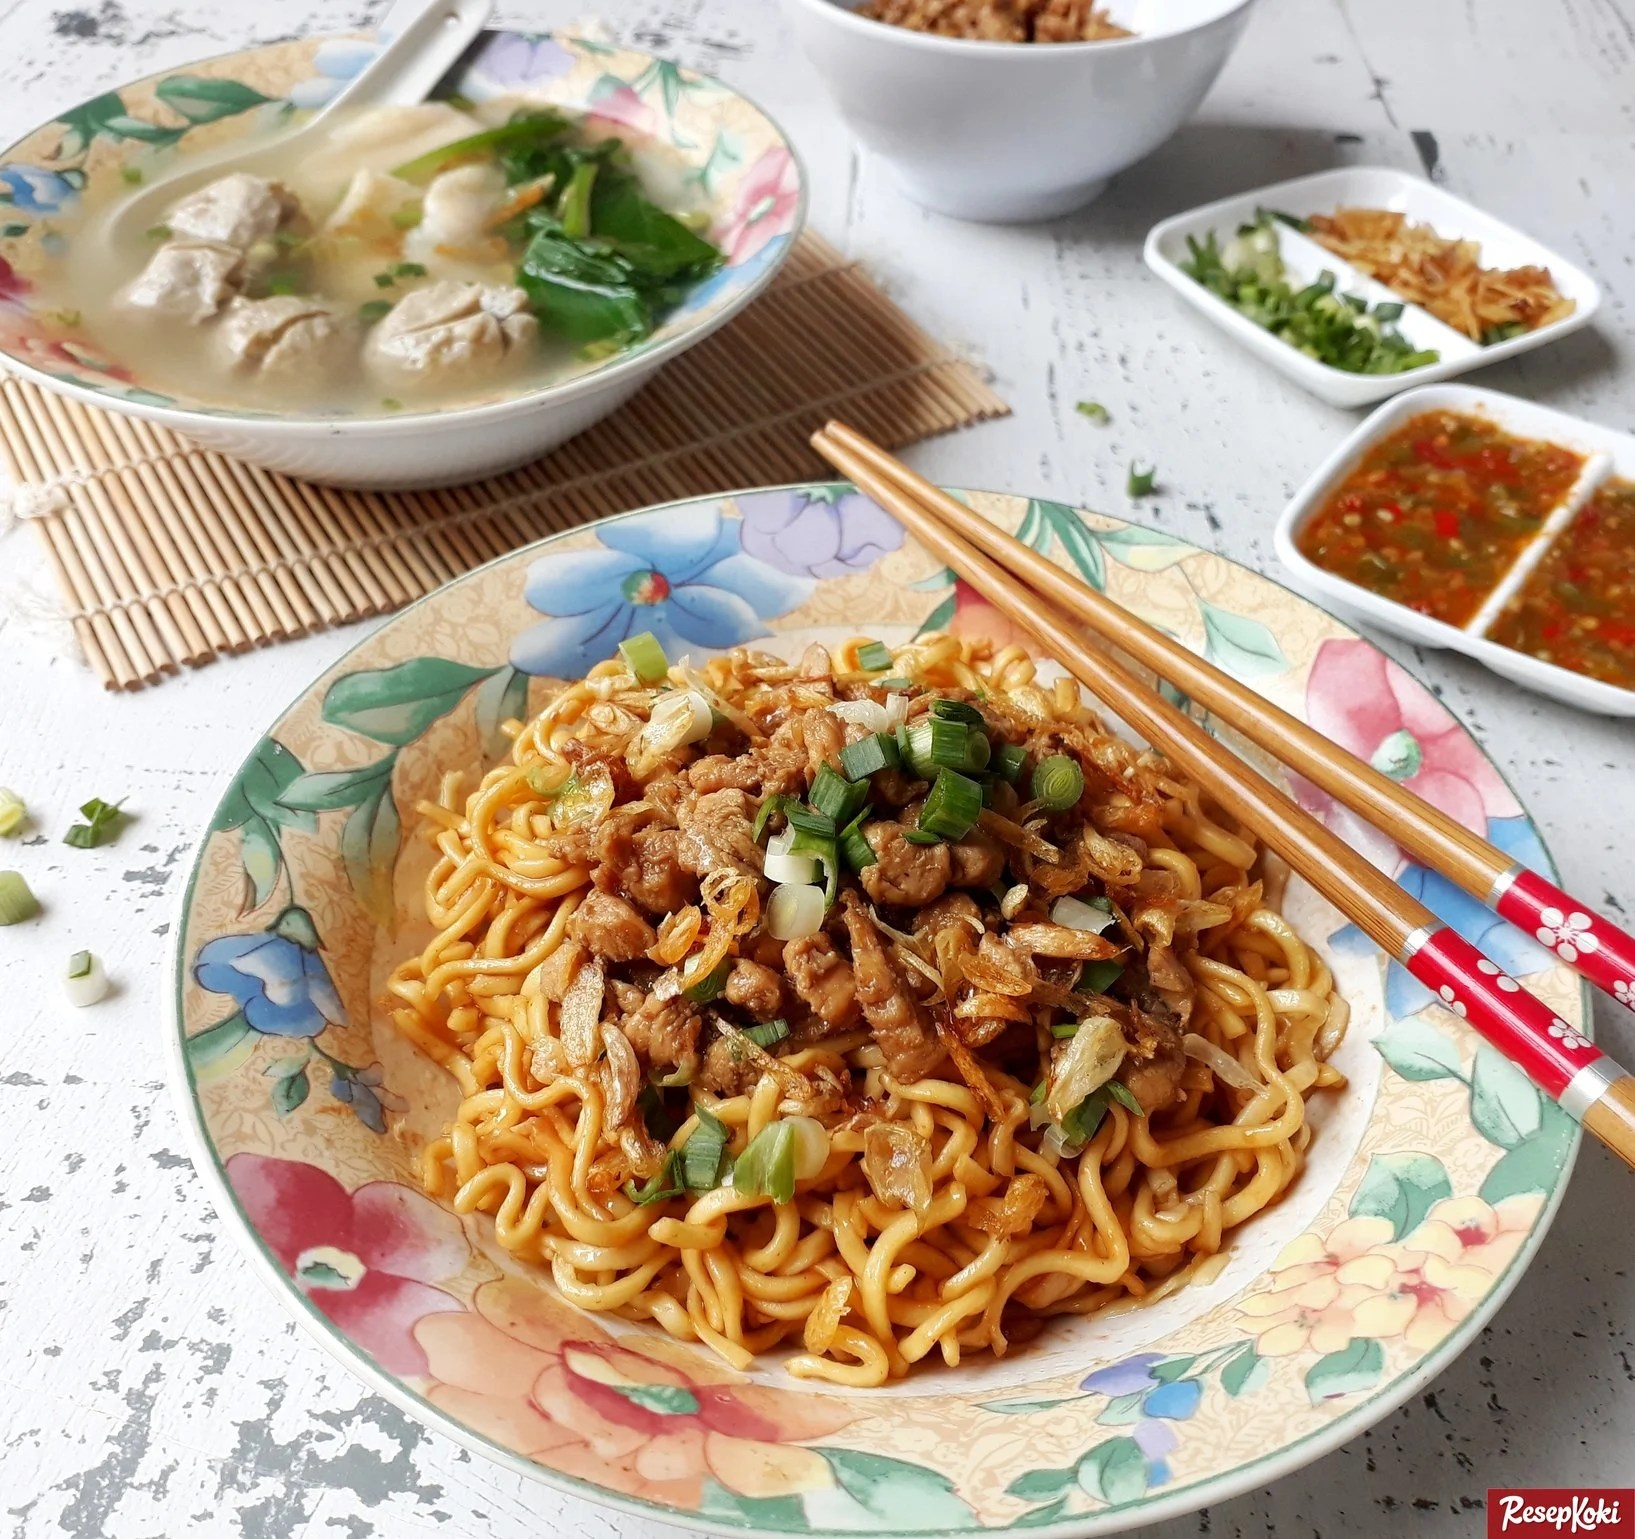Mie: (354, 623, 1341, 1374)
